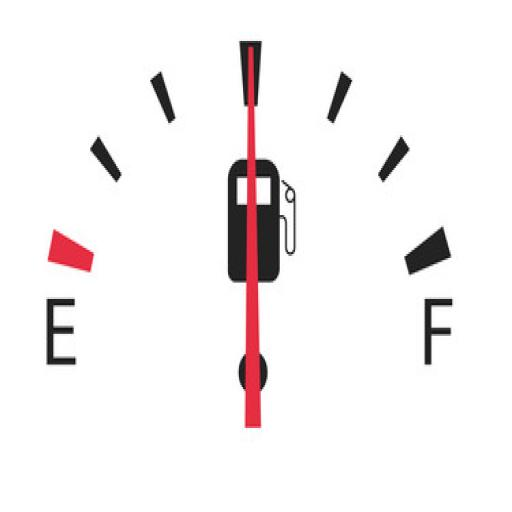empty: (42, 290, 78, 372)
fuel_icon: (227, 157, 297, 286)
full: (420, 290, 452, 370)
guage_area: (38, 37, 466, 440)
needle_center: (233, 339, 273, 402)
needle_tip: (245, 44, 256, 100)
